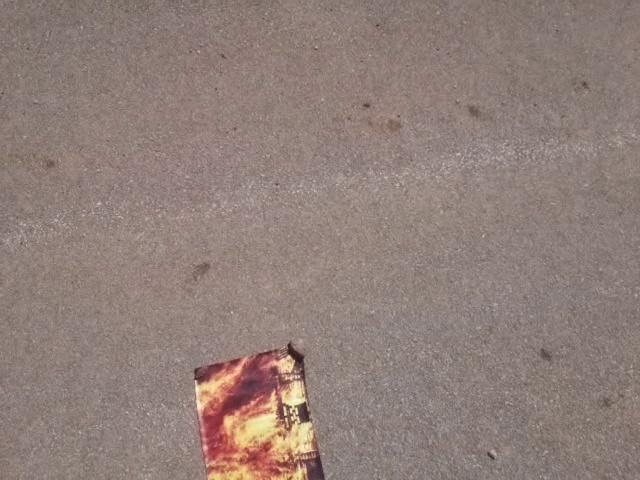fire-poster: (190, 341, 328, 479)
